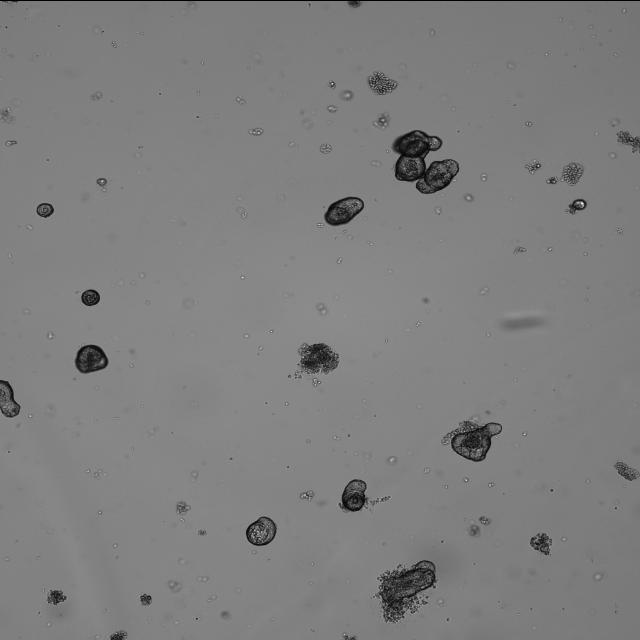alive: (392, 127, 458, 195), (446, 416, 502, 464), (319, 192, 369, 232), (73, 342, 111, 376), (338, 474, 368, 516), (243, 514, 280, 548), (0, 377, 21, 419), (32, 200, 58, 221), (80, 286, 102, 306), (572, 197, 588, 211)
dead: (374, 559, 444, 622), (296, 339, 345, 377), (528, 527, 556, 558), (368, 69, 401, 95), (561, 160, 584, 184), (46, 588, 68, 604), (138, 590, 154, 607)
